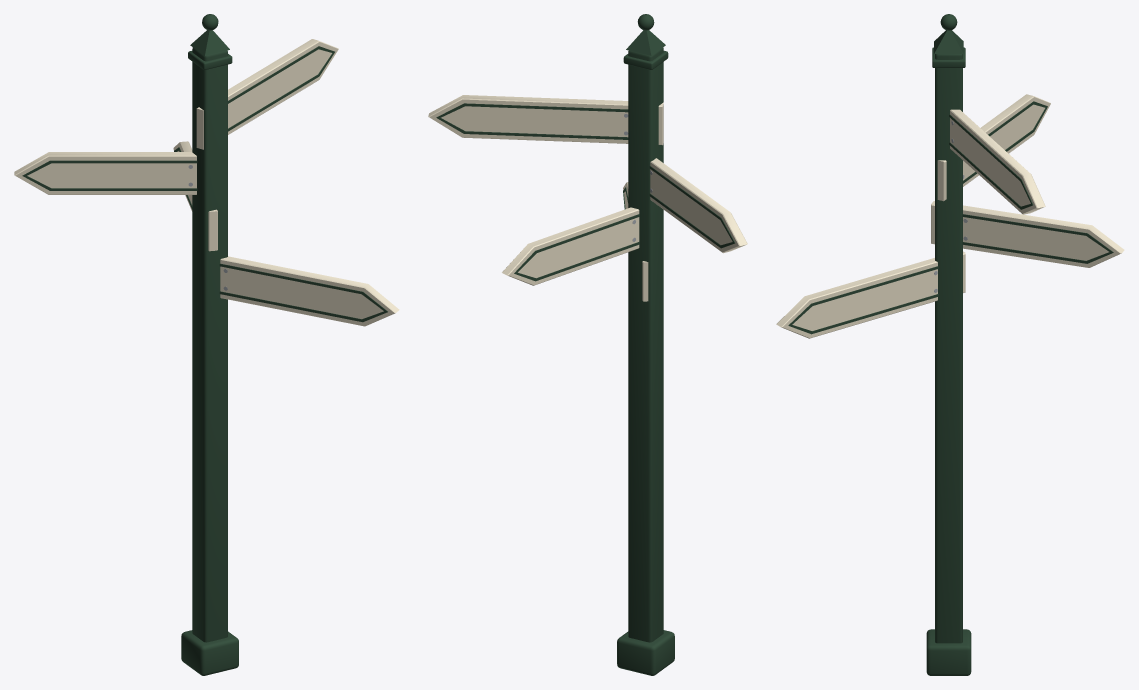
Rendered from finger-signpost.glb.
3 views of the same model, side by side, from view 1: azimuth 30°, elevation 25°; view 2: azimuth 150°, elevation 25°; view 3: azimuth 270°, elevation 25° (orthographic).
Parts seen in each view (by area): view 1: Finger_Signpost; view 2: Finger_Signpost; view 3: Finger_Signpost.
Boxes of the visible parts, <box> form: Finger_Signpost: <box>14,14,399,675</box>; Finger_Signpost: <box>428,14,747,675</box>; Finger_Signpost: <box>776,14,1124,675</box>.
Bounding box in the file's own units: 1.33 × 2.58 × 1.25.
